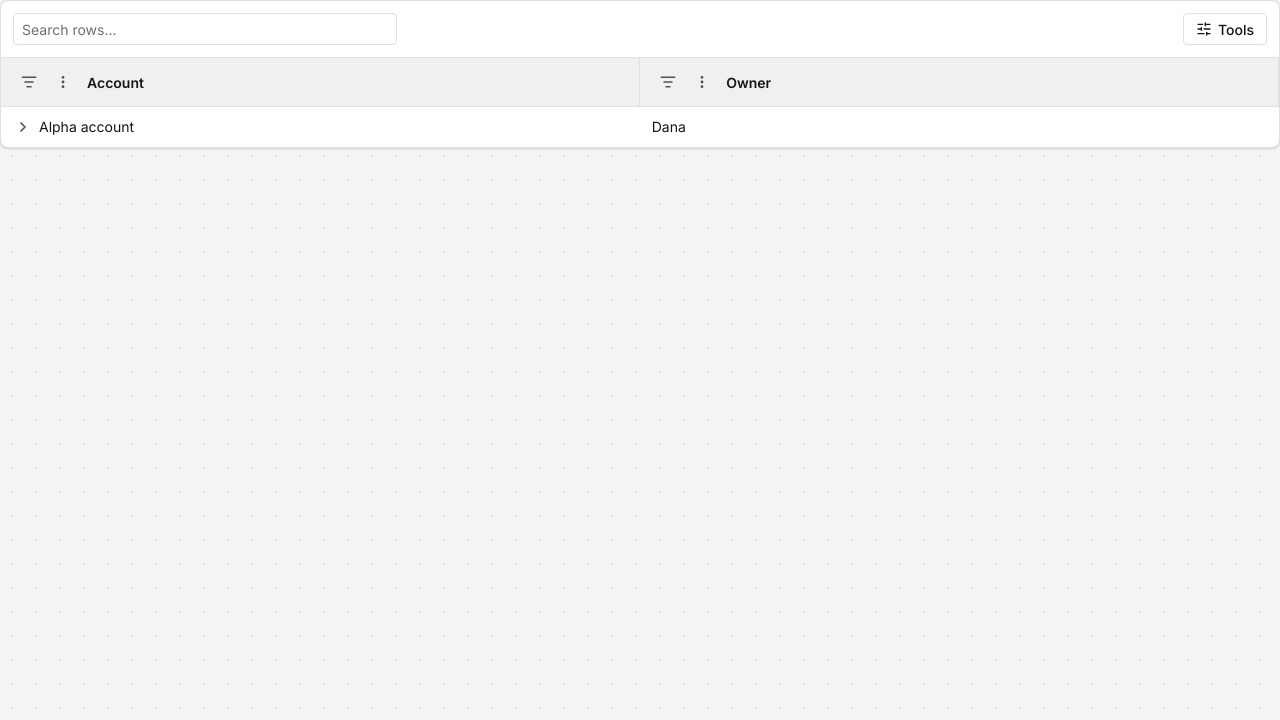
Test case: DataGrid master-detail rows › expands and collapses detail rows from the keyboard on the tree column
This screenshot has width=1280, height=720.
Focus the cell "Alpha account": (87, 127) [1,106,640,146]
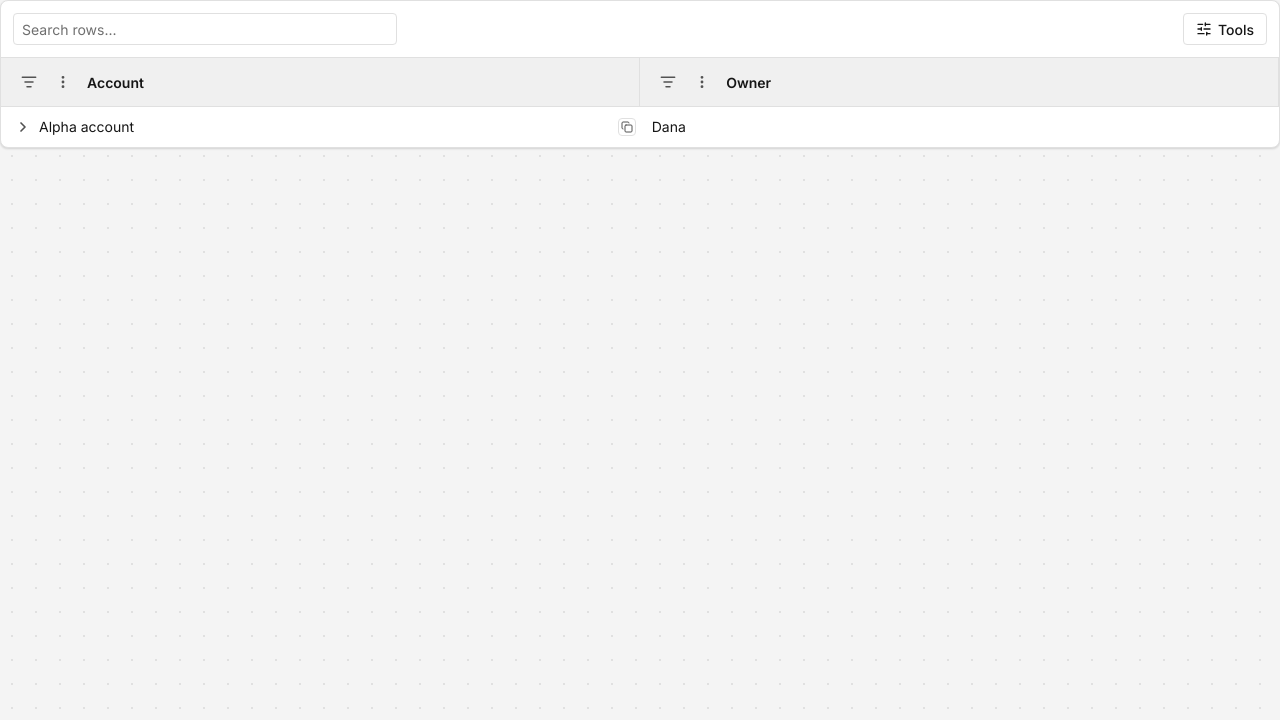
Press ArrowRight in the cell "Alpha account", box [1,106,640,146]
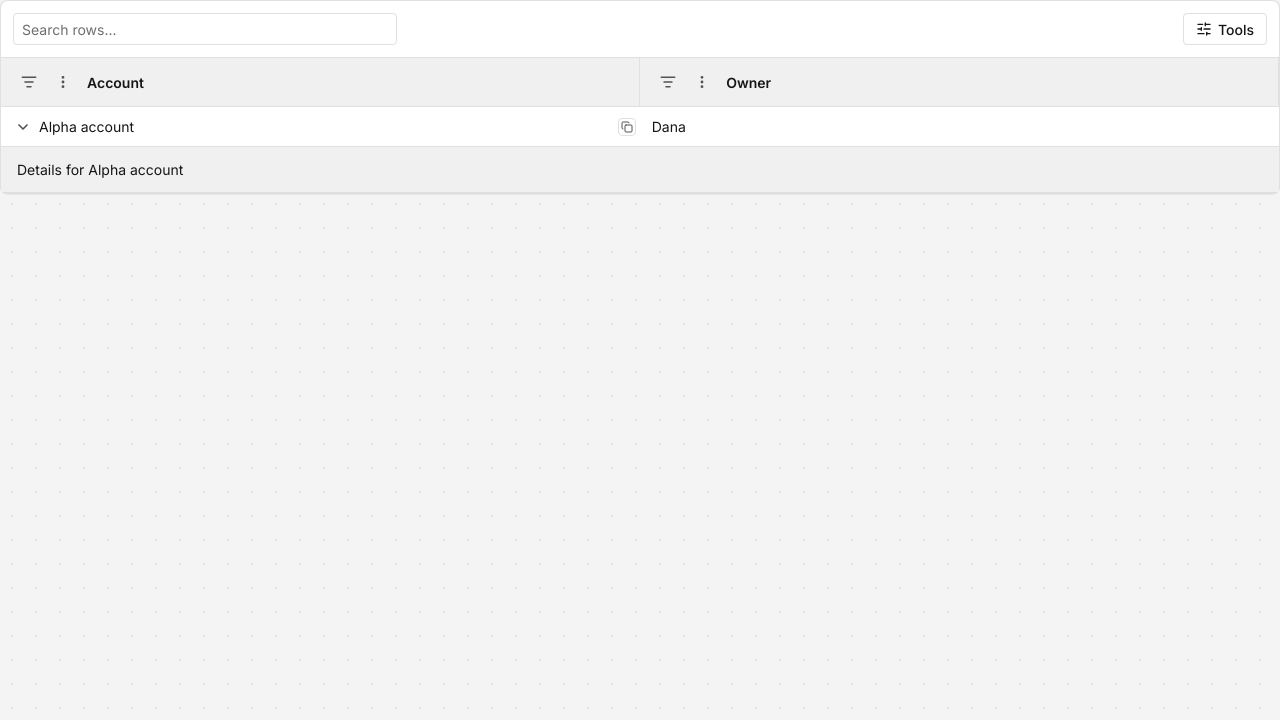
Now the text "Details for Alpha account" is shown, box [17,161,183,178]
Press ArrowLeft in the cell "Alpha account", box [1,106,640,146]
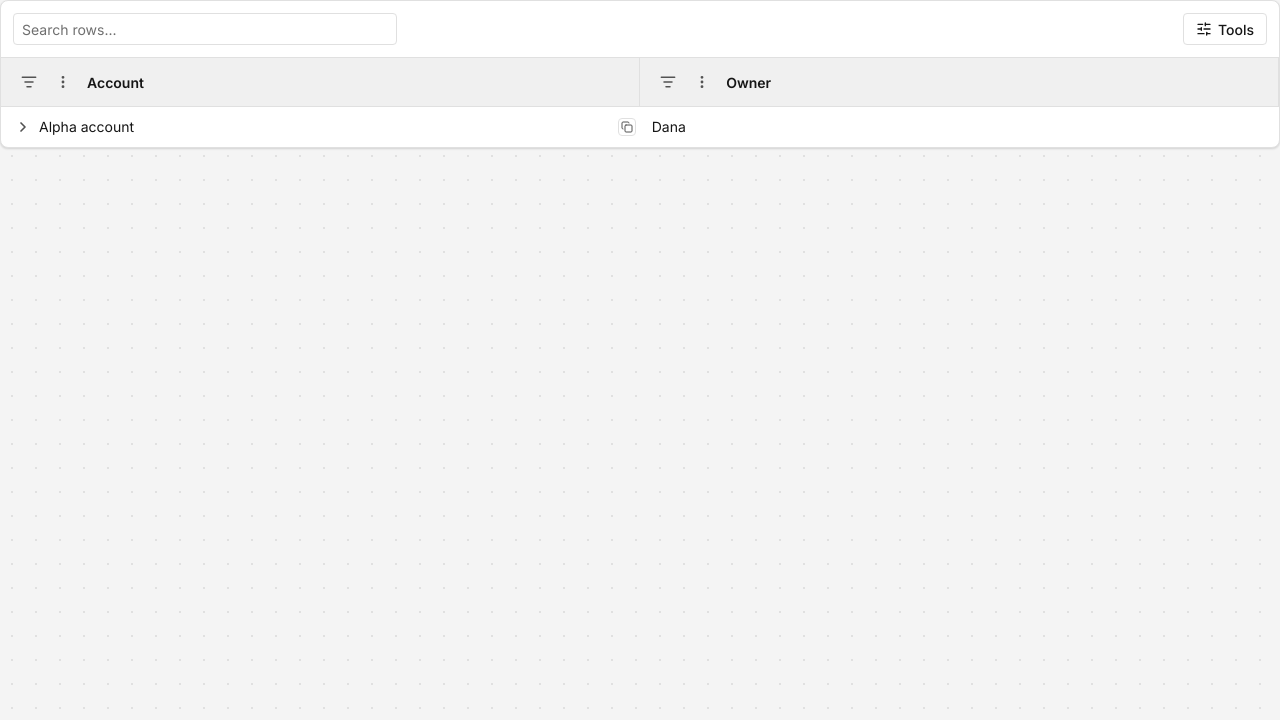
Now the text "Details for Alpha account" is gone
